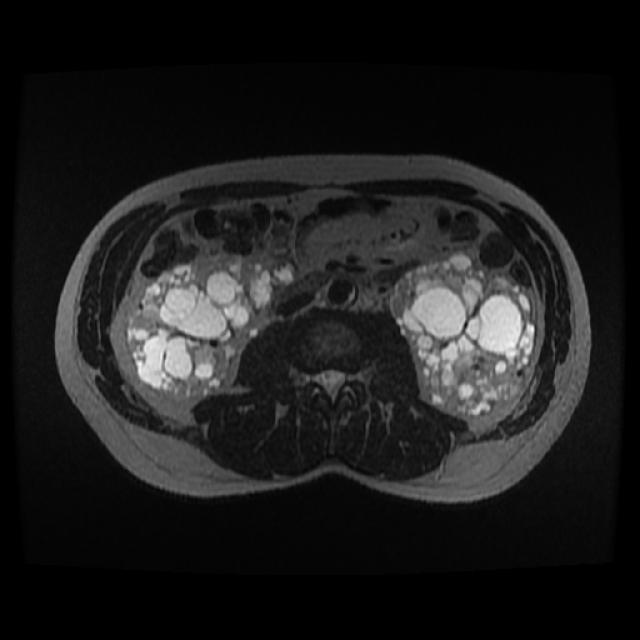sag: (126, 249, 273, 404)
sol: (388, 250, 537, 419)
